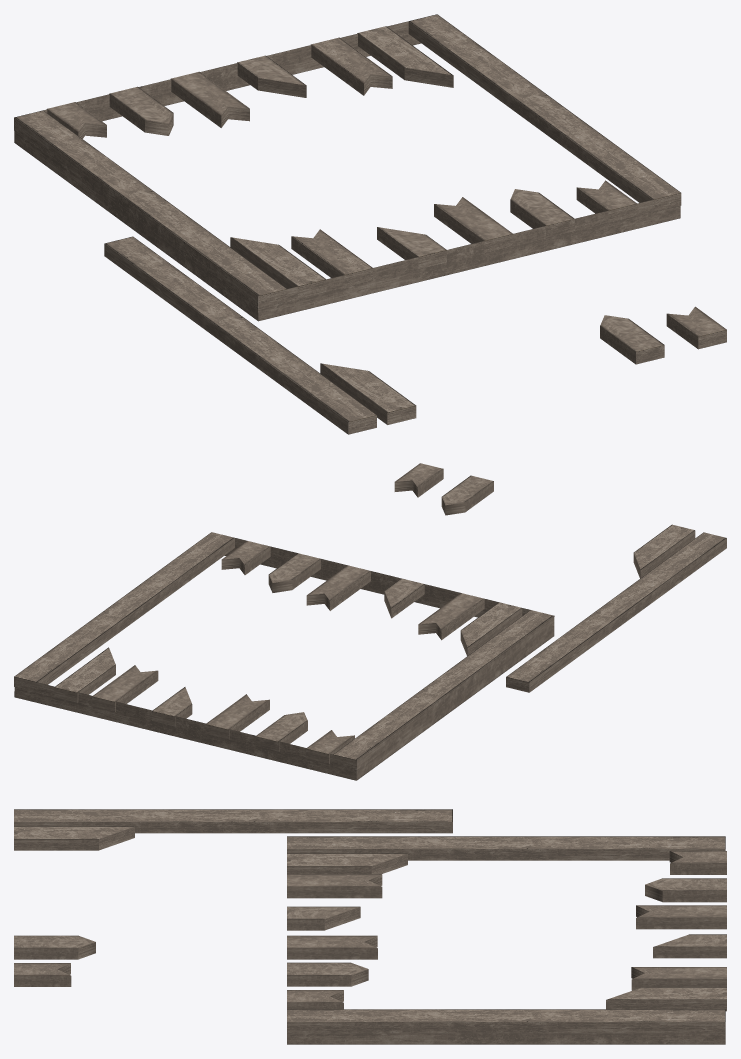
Rendered from BrokenFloorPlanks.FBX.
3 renders of one model, top to bottom at view 1: azimuth 30°, elevation 25°; view 2: azimuth 150°, elevation 25°; view 3: azimuth 270°, elevation 25°, orthographic. The views are drawn at different scales.
Visible parts, largest first — view 1: planksBroken, floorFrame, plank01, plank02, plank03, plank04; view 2: planksBroken, floorFrame, plank01, plank02, plank03, plank04; view 3: planksBroken, plank01, floorFrame, plank02, plank03, plank04.
Boxes of the visible parts, x1,y1,x2,y2 form: planksBroken: (14, 14, 681, 308); floorFrame: (14, 21, 680, 321); plank01: (104, 236, 376, 434); plank02: (320, 363, 416, 424); plank03: (600, 315, 664, 364); plank04: (666, 306, 726, 349); planksBroken: (14, 532, 553, 767); floorFrame: (14, 538, 554, 780); plank01: (506, 532, 726, 692); plank02: (633, 524, 695, 578); plank03: (441, 475, 493, 515); plank04: (394, 463, 443, 497); planksBroken: (287, 836, 726, 1033); plank01: (14, 809, 452, 833); floorFrame: (287, 836, 725, 1044); plank02: (14, 826, 134, 850); plank03: (14, 935, 95, 959); plank04: (14, 963, 71, 986).
Size of the model in its own units: 0.5827 by 0.0291 by 0.8252.
